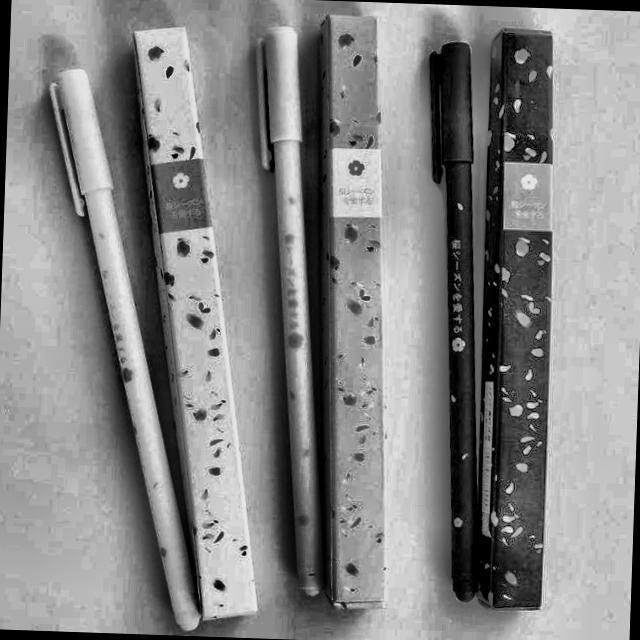Pen: (49, 68, 193, 617), (253, 29, 326, 597), (426, 41, 488, 606)
